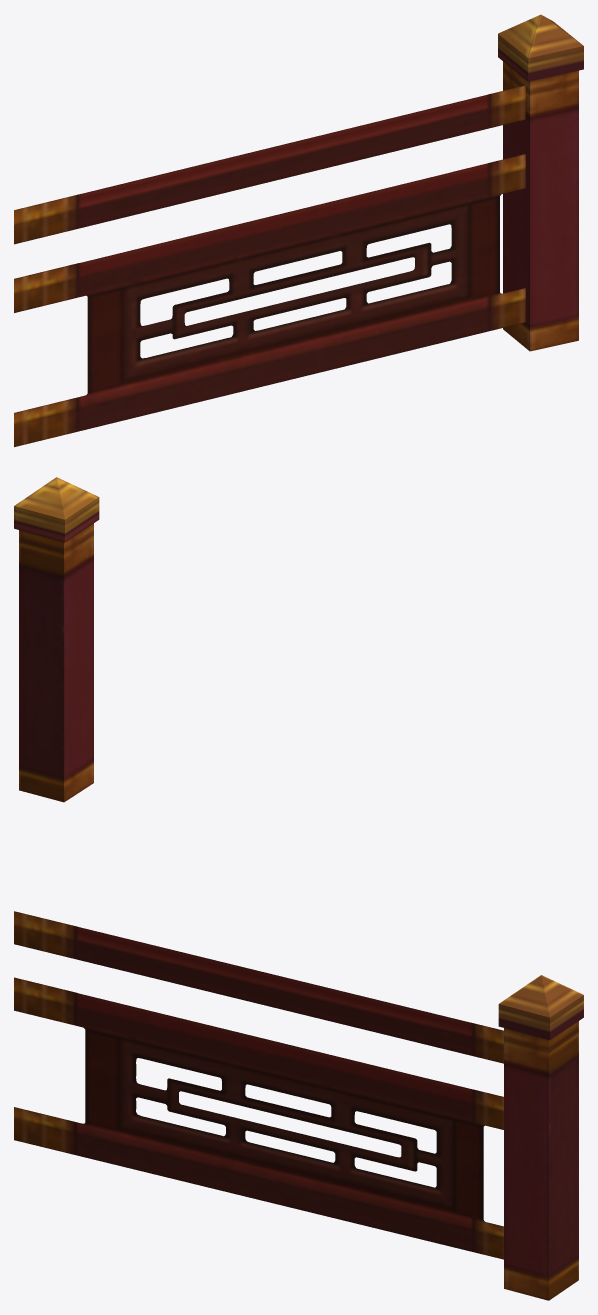
Rendered from fb_baitang_langan.FBX.
3 renders of one model, top to bottom at view 1: azimuth 30°, elevation 25°; view 2: azimuth 150°, elevation 25°; view 3: azimuth 330°, elevation 25°, orthographic. The views are drawn at different scales.
Parts seen in each view (by area): view 1: fb_baitang_langan; view 2: fb_baitang_langan; view 3: fb_baitang_langan.
Boxes of the visible parts, bbox=[...] form: fb_baitang_langan: bbox=[14, 14, 583, 447]; fb_baitang_langan: bbox=[14, 477, 99, 802]; fb_baitang_langan: bbox=[14, 911, 583, 1300].
Size of the model in its own units: 227 by 123 by 23.85.
